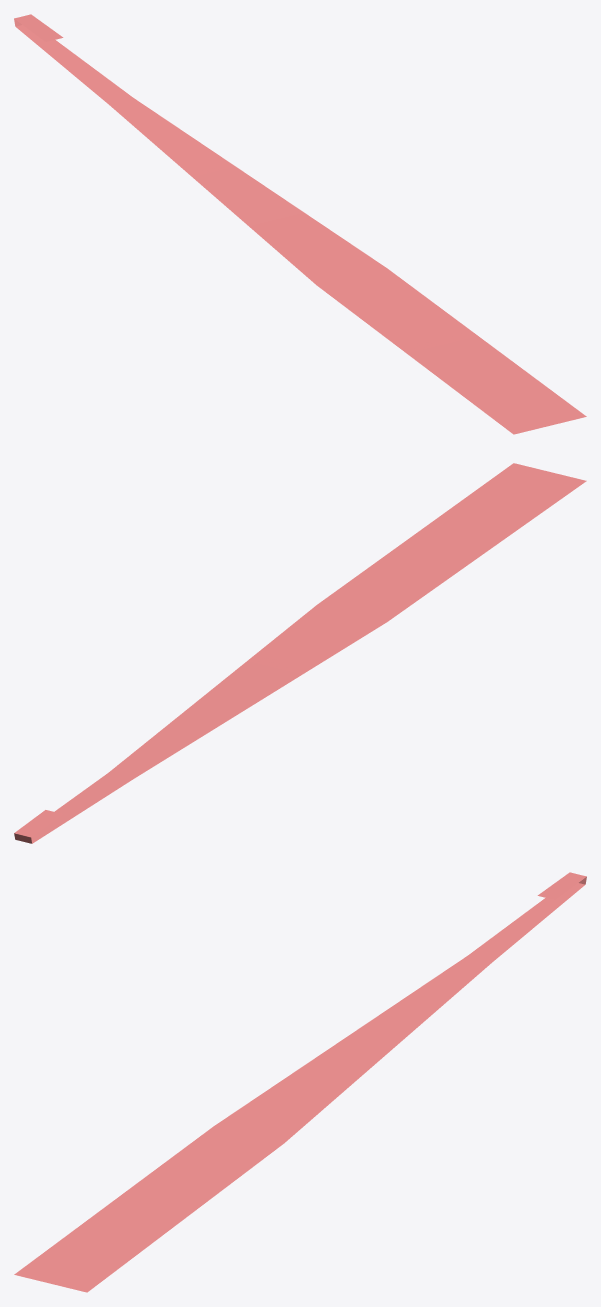
File: entity430298.gltf
3 views of the same model, one above another, from view 1: azimuth 30°, elevation 25°; view 2: azimuth 150°, elevation 25°; view 3: azimuth 330°, elevation 25° (orthographic).
Parts seen in each view (by area): view 1: node_pPlane1; view 2: node_pPlane1; view 3: node_pPlane1.
Boxes of the visible parts, x1=… form: node_pPlane1: x1=14, y1=14, x2=586, y2=434; node_pPlane1: x1=14, y1=463, x2=586, y2=843; node_pPlane1: x1=14, y1=872, x2=586, y2=1292.
Bounding box in the file's own units: 2 × 0.599 × 24.96.
